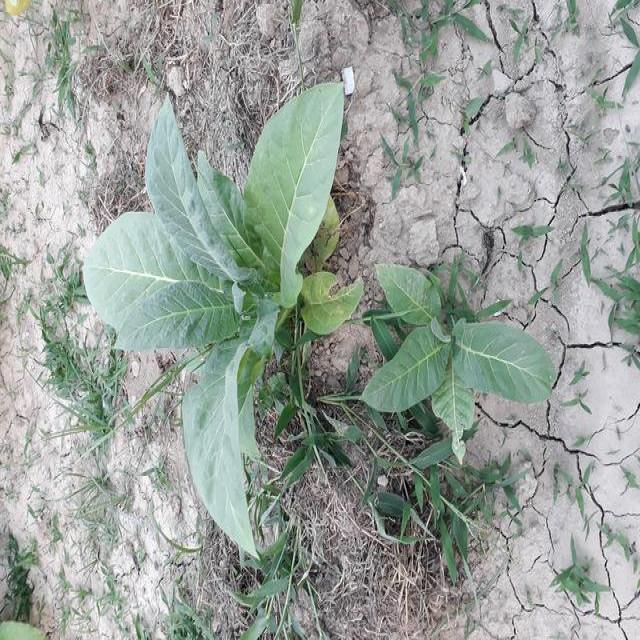crop: (80, 58, 352, 550)
